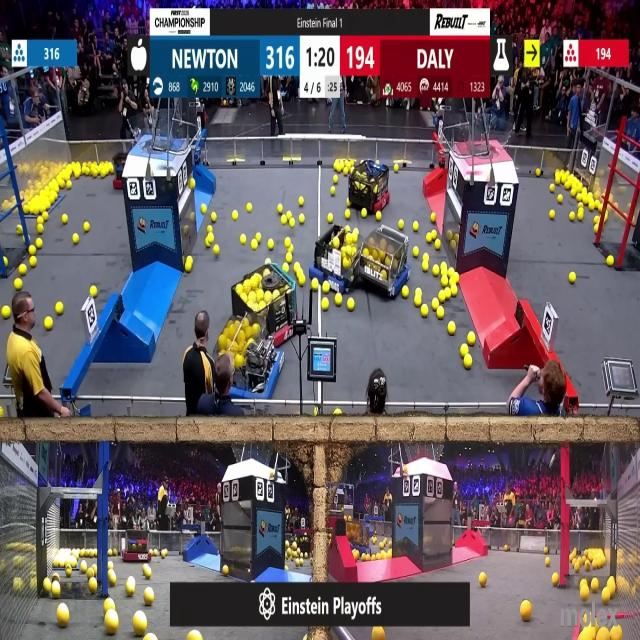ball_ground: (104, 612, 119, 636), (134, 612, 148, 636), (144, 588, 154, 606), (128, 578, 136, 598), (480, 572, 488, 586), (449, 320, 456, 334), (568, 272, 576, 284), (464, 355, 471, 368), (553, 572, 560, 585), (438, 308, 446, 319), (57, 304, 64, 316), (18, 266, 26, 276), (73, 233, 79, 246), (213, 245, 220, 256), (422, 306, 428, 318), (30, 256, 37, 266), (268, 240, 275, 250), (422, 262, 429, 272), (240, 235, 247, 245), (92, 286, 98, 296), (398, 219, 404, 229), (550, 210, 557, 218), (234, 210, 239, 221), (606, 256, 612, 265), (569, 212, 575, 221), (298, 198, 304, 206), (430, 214, 436, 222), (62, 215, 68, 223), (83, 222, 89, 230), (361, 209, 367, 217), (434, 241, 440, 249), (558, 194, 564, 201), (247, 204, 252, 212), (212, 212, 216, 222), (544, 558, 549, 566), (346, 209, 350, 219), (330, 186, 334, 195), (16, 224, 20, 233), (535, 170, 540, 177), (328, 214, 332, 222)
goal: (455, 115, 515, 157), (126, 115, 188, 150)
robot_blue: (199, 309, 286, 408), (353, 225, 413, 299), (307, 220, 363, 295)
robot_red: (230, 260, 302, 348), (346, 159, 389, 214), (110, 148, 148, 192), (122, 529, 152, 560)
